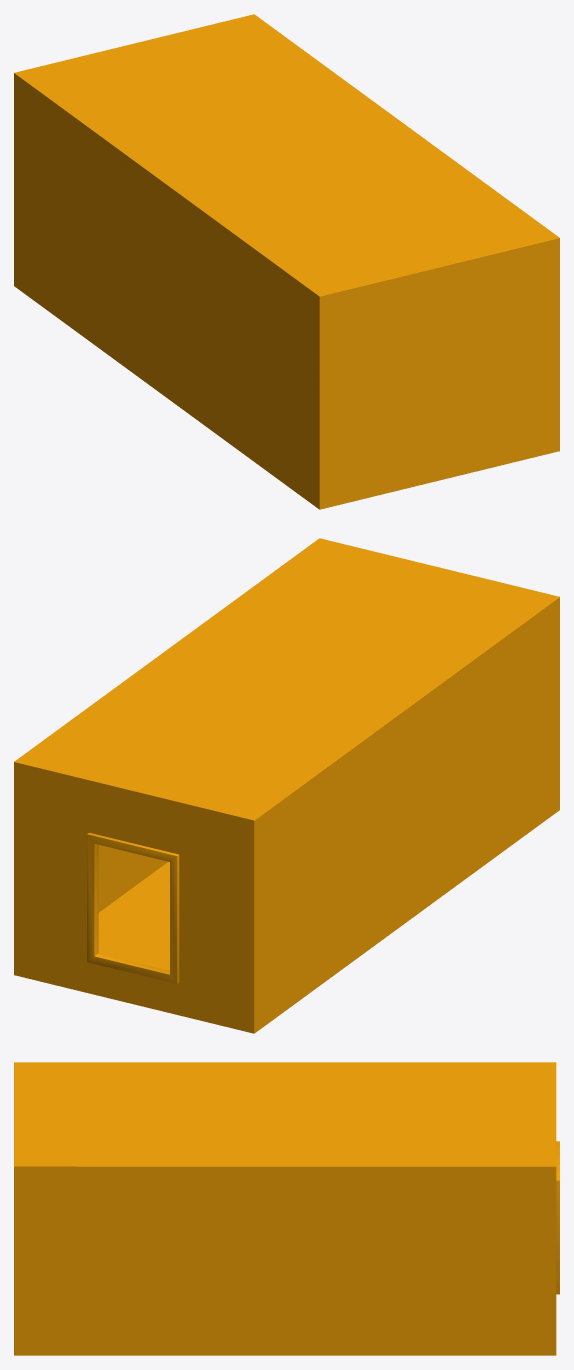
Rendered from ng_portal_03.obj.
3 views of the same model, one above another, from view 1: azimuth 30°, elevation 25°; view 2: azimuth 150°, elevation 25°; view 3: azimuth 270°, elevation 25° (orthographic). The views are drawn at different scales.
Visible parts, largest first — view 1: occ_obj_Cube.000; view 2: occ_obj_Cube.000, portal_Cube.001; view 3: occ_obj_Cube.000, portal_Cube.001.
Part boxes in pixels (bbox=[...]): occ_obj_Cube.000: bbox=[14, 14, 559, 509]; occ_obj_Cube.000: bbox=[14, 538, 559, 1033]; portal_Cube.001: bbox=[87, 832, 179, 983]; occ_obj_Cube.000: bbox=[14, 1062, 556, 1355]; portal_Cube.001: bbox=[556, 1141, 559, 1294].
Size of what is drawn, in the model's own units: 4.32 by 3.66 by 9.57.
